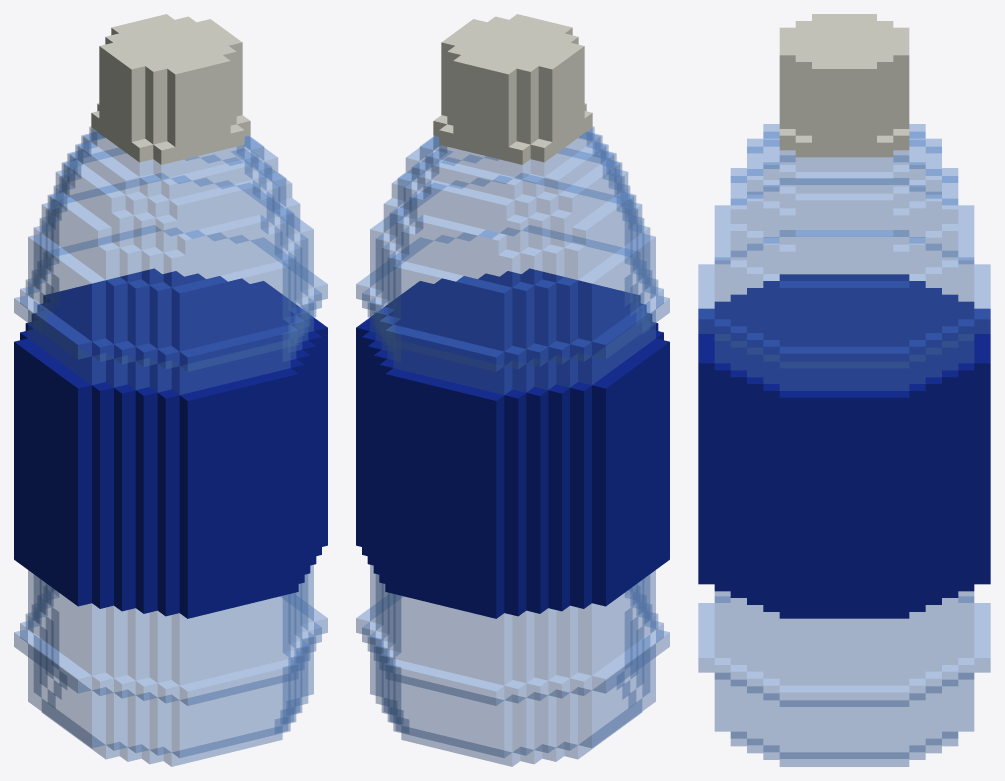
The model's file is bottle_plastic.glb.
3 views of the same model, side by side, from view 1: azimuth 30°, elevation 25°; view 2: azimuth 150°, elevation 25°; view 3: azimuth 270°, elevation 25° (orthographic).
Parts seen in each view (by area): view 1: bottle_plastic:compound; view 2: bottle_plastic:compound; view 3: bottle_plastic:compound.
Part boxes in pixels (left/top/right/bottom): bottle_plastic:compound: left=14, top=14, right=327, bottom=766; bottle_plastic:compound: left=356, top=14, right=669, bottom=766; bottle_plastic:compound: left=698, top=14, right=990, bottom=766.
Size of the model in its own units: 0.072 by 0.184 by 0.072.
